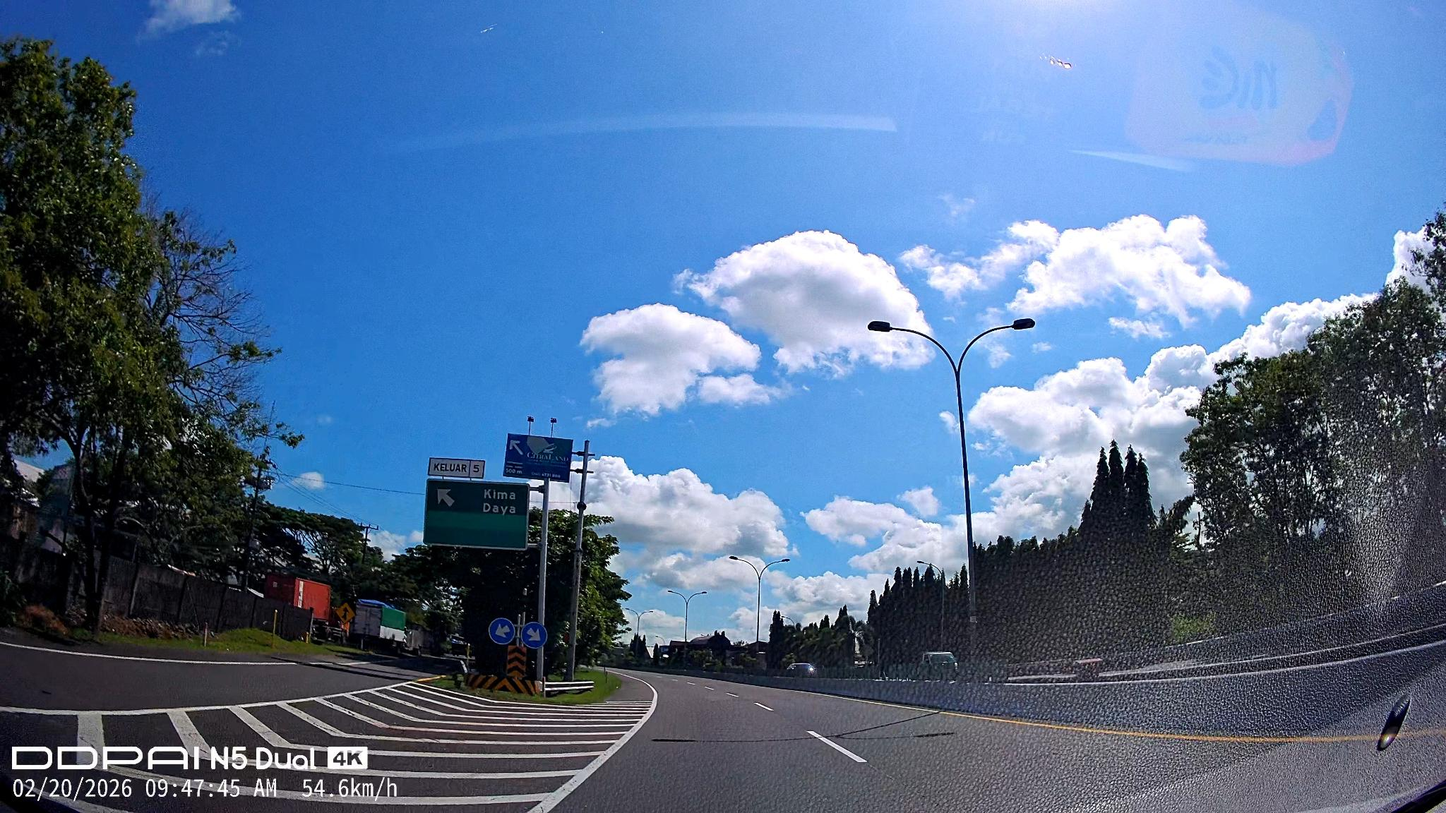rambu_teks: (420, 477, 531, 551)
